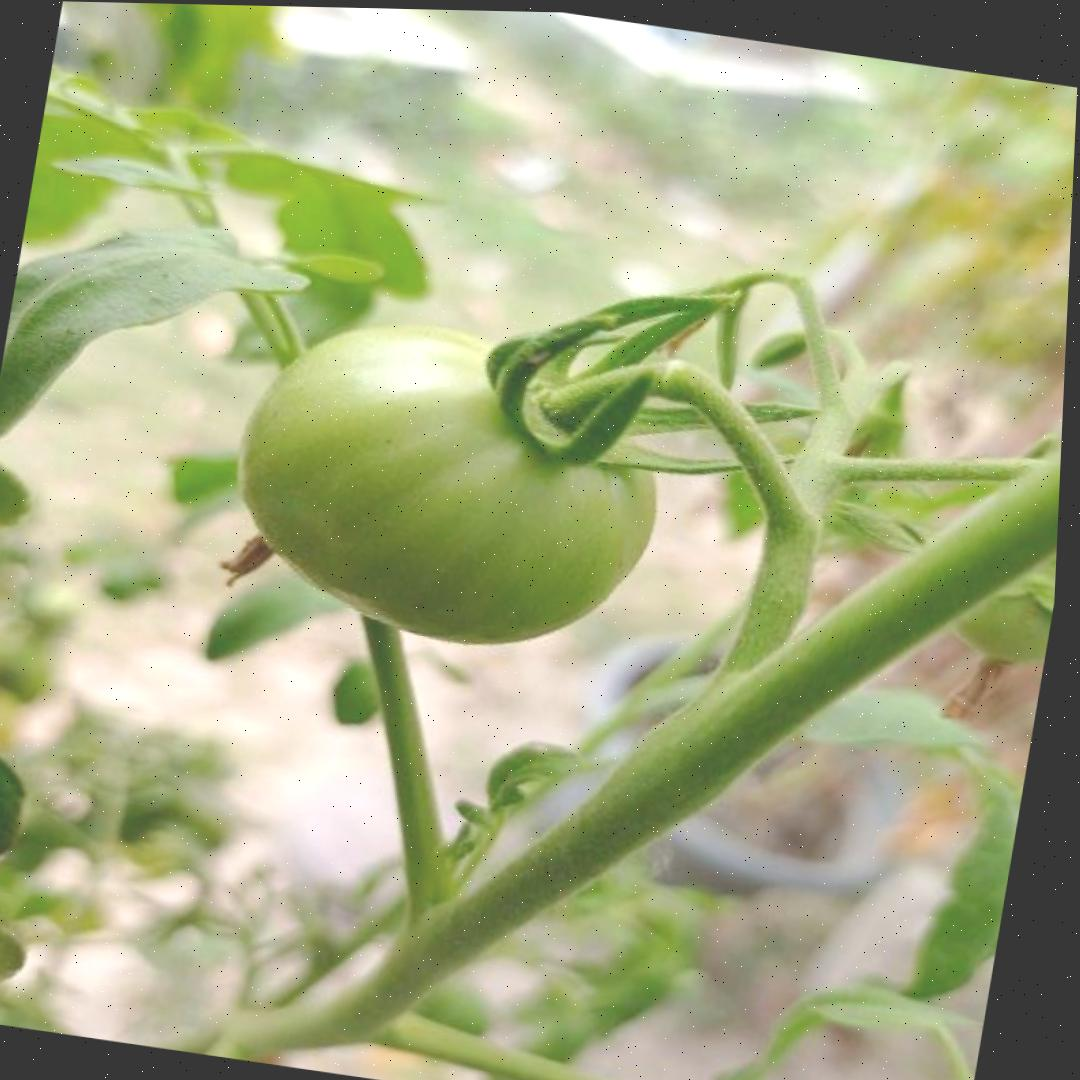mentah: (202, 293, 691, 673)
